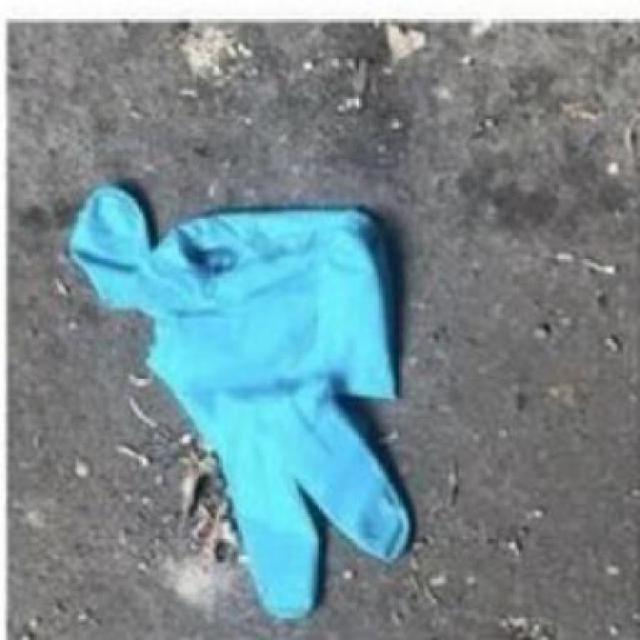gloved_hand: (66, 154, 417, 628)
